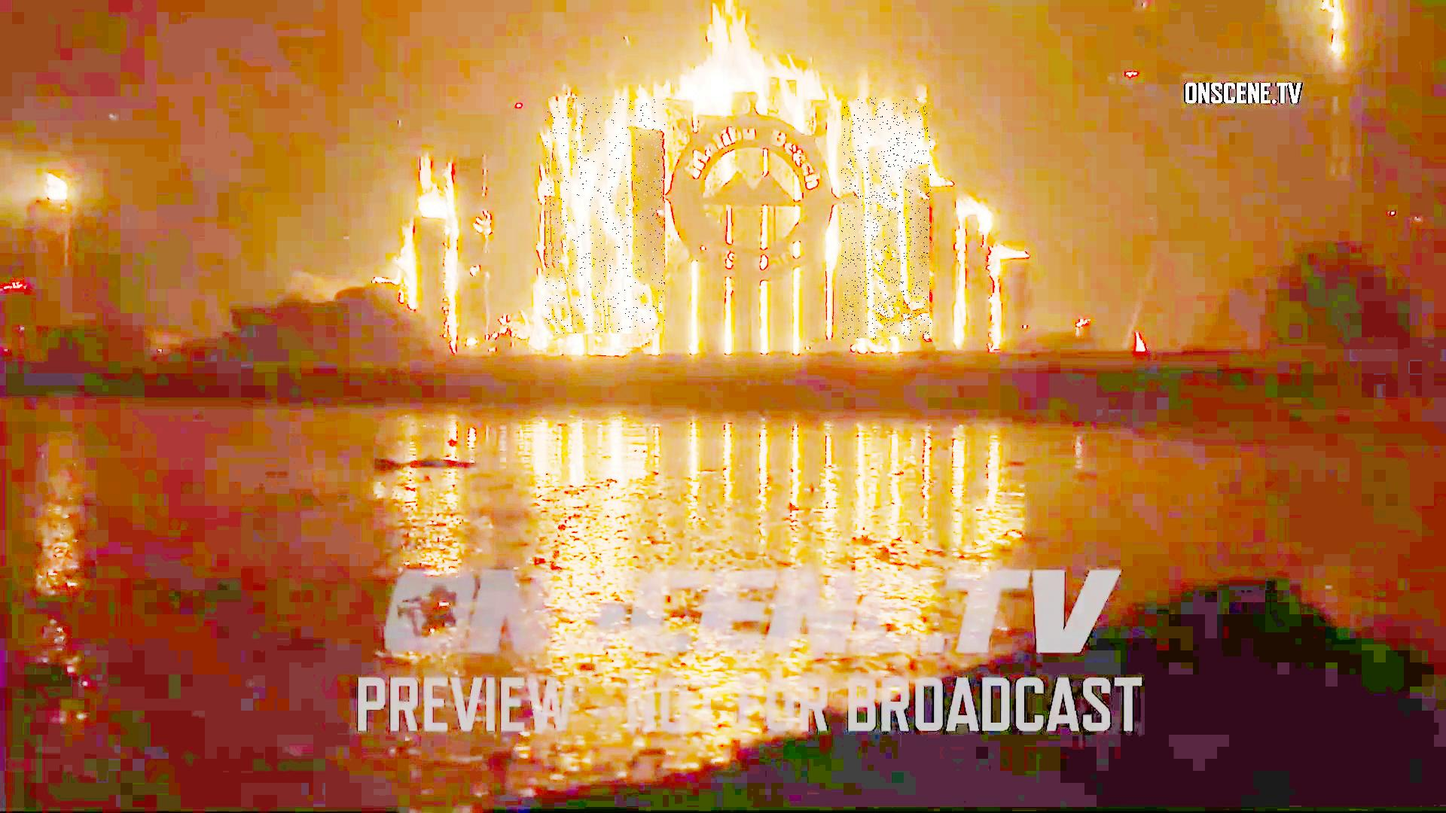fire: (545, 98, 665, 333), (842, 98, 932, 341)
